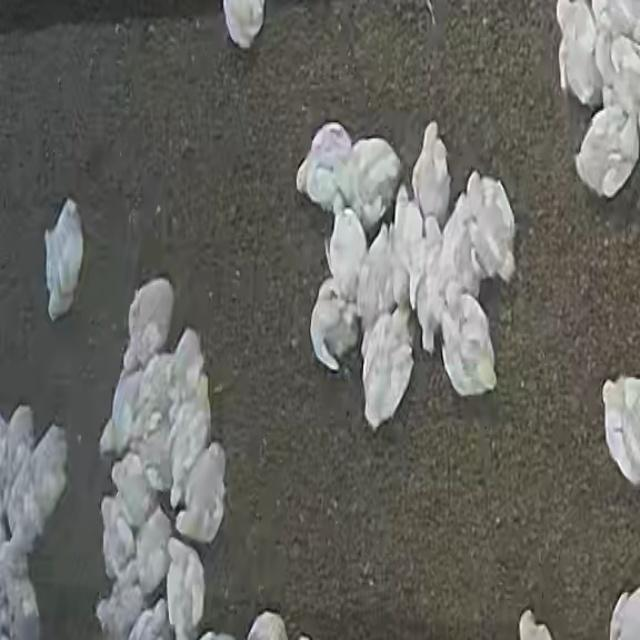chicken: (362, 306, 413, 430), (438, 292, 496, 398), (574, 104, 638, 198), (467, 173, 517, 285), (169, 375, 212, 496), (177, 442, 227, 543), (297, 119, 353, 207), (435, 200, 479, 312), (44, 199, 84, 322), (124, 278, 176, 372), (349, 136, 403, 226), (26, 423, 68, 538), (357, 221, 401, 329), (556, 4, 601, 106), (601, 376, 640, 490), (309, 279, 356, 370), (164, 536, 204, 636), (414, 119, 451, 223), (0, 405, 36, 510), (96, 372, 140, 457), (328, 209, 368, 299), (595, 26, 640, 104), (132, 510, 172, 592), (104, 456, 152, 521), (96, 577, 144, 640), (99, 498, 131, 576), (219, 0, 264, 50)
